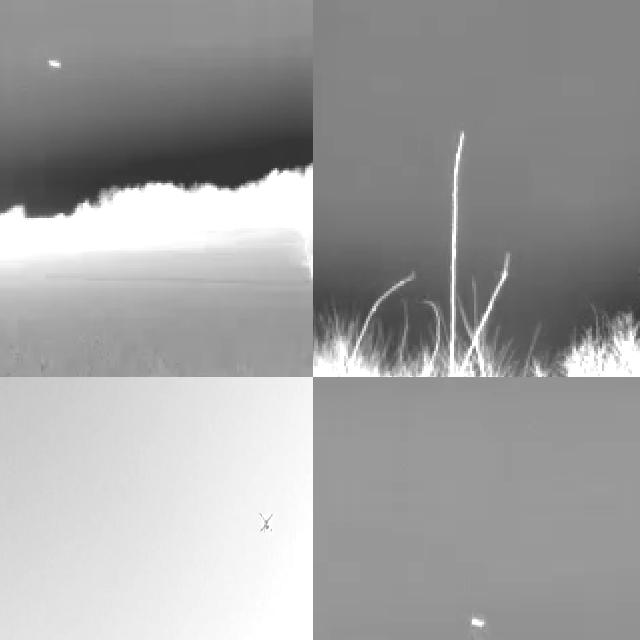1: (38, 51, 72, 83), (461, 609, 495, 640)
drone: (255, 508, 278, 540)
